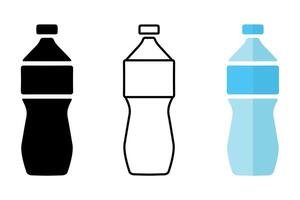plastic_bottle: (220, 20, 287, 177), (20, 20, 80, 180), (120, 21, 179, 180)
